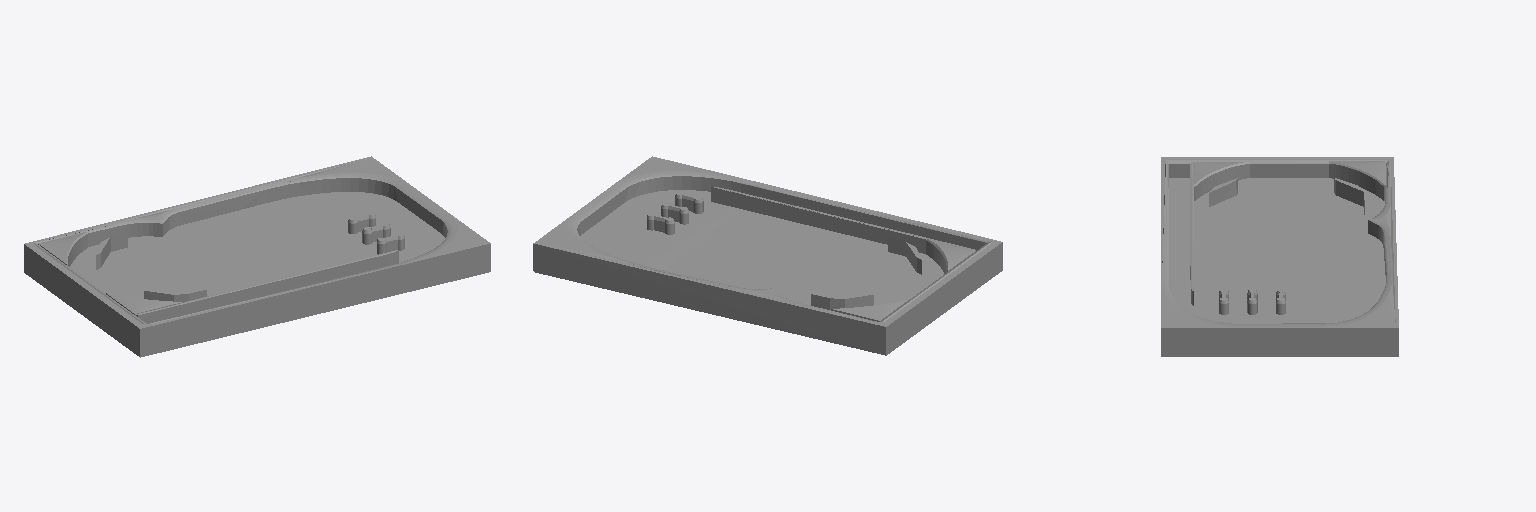
Rendered from pt_objects_per_material.obj.
The picture shows the model from 3 angles: view 1: azimuth 30°, elevation 25°; view 2: azimuth 150°, elevation 25°; view 3: azimuth 270°, elevation 25°; orthographic projection.
Visible parts, largest first — view 1: Board_Cube.006_Material.012, Board_Cube.006_grass_NONE, Board_Cube.006_darksteel, Board_Cube.006_grass, Left_Cube.002_Material.003, Right_Cube.001_Material.002, leftdivider_Cube_Material.004, rightdivider_Cube.003_Material.005; view 2: Board_Cube.006_Material.012, Board_Cube.006_grass_NONE, Board_Cube.006_darksteel, Board_Cube.006_grass, Right_Cube.001_Material.002, leftdivider_Cube_Material.004, Left_Cube.002_Material.003, rightdivider_Cube.003_Material.005; view 3: Board_Cube.006_Material.012, Board_Cube.006_grass_NONE, Board_Cube.006_darksteel, Board_Cube.006_grass, Left_Cube.002_Material.003, Right_Cube.001_Material.002, leftdivider_Cube_Material.004.
Boxes of the visible parts, box(x1,y1,x2,y2) form: Board_Cube.006_Material.012: box(70, 192, 444, 298); Board_Cube.006_grass_NONE: box(24, 244, 490, 357); Board_Cube.006_darksteel: box(26, 173, 457, 324); Board_Cube.006_grass: box(25, 156, 490, 328); Left_Cube.002_Material.003: box(38, 232, 87, 266); Right_Cube.001_Material.002: box(106, 293, 183, 314); leftdivider_Cube_Material.004: box(96, 232, 127, 269); rightdivider_Cube.003_Material.005: box(144, 290, 206, 301); Board_Cube.006_Material.012: box(580, 190, 943, 305); Board_Cube.006_grass_NONE: box(533, 242, 1002, 355); Board_Cube.006_darksteel: box(567, 171, 993, 326); Board_Cube.006_grass: box(533, 156, 1001, 326); Right_Cube.001_Material.002: box(926, 239, 975, 273); leftdivider_Cube_Material.004: box(811, 294, 873, 309); Left_Cube.002_Material.003: box(831, 300, 908, 321); rightdivider_Cube.003_Material.005: box(888, 237, 921, 274); Board_Cube.006_Material.012: box(1169, 178, 1385, 323); Board_Cube.006_grass_NONE: box(1161, 328, 1398, 356); Board_Cube.006_darksteel: box(1162, 157, 1393, 326); Board_Cube.006_grass: box(1161, 157, 1398, 327); Left_Cube.002_Material.003: box(1329, 161, 1385, 200); Right_Cube.001_Material.002: box(1193, 162, 1249, 200); leftdivider_Cube_Material.004: box(1334, 178, 1364, 214).
Size of the model in its own units: 28.4 by 2.38 by 16.7.